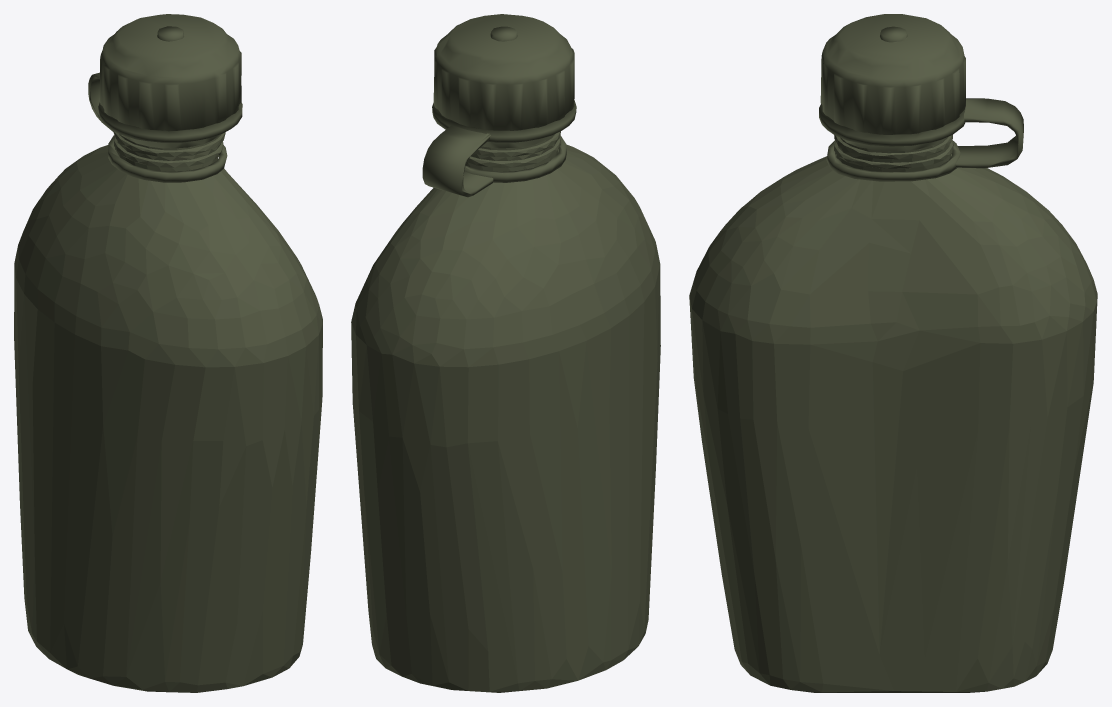
Rendered from WorldItem_Canteen.fbx.
3 views of the same model, side by side, from view 1: azimuth 30°, elevation 25°; view 2: azimuth 150°, elevation 25°; view 3: azimuth 270°, elevation 25° (orthographic). The views are drawn at different scales.
Parts seen in each view (by area): view 1: Canteen; view 2: Canteen; view 3: Canteen.
Boxes of the visible parts, x1=… form: Canteen: x1=14, y1=14, x2=322, y2=692; Canteen: x1=351, y1=14, x2=660, y2=692; Canteen: x1=689, y1=14, x2=1097, y2=692.
Size of the model in its own units: 0.0581 by 0.1555 by 0.0929.
